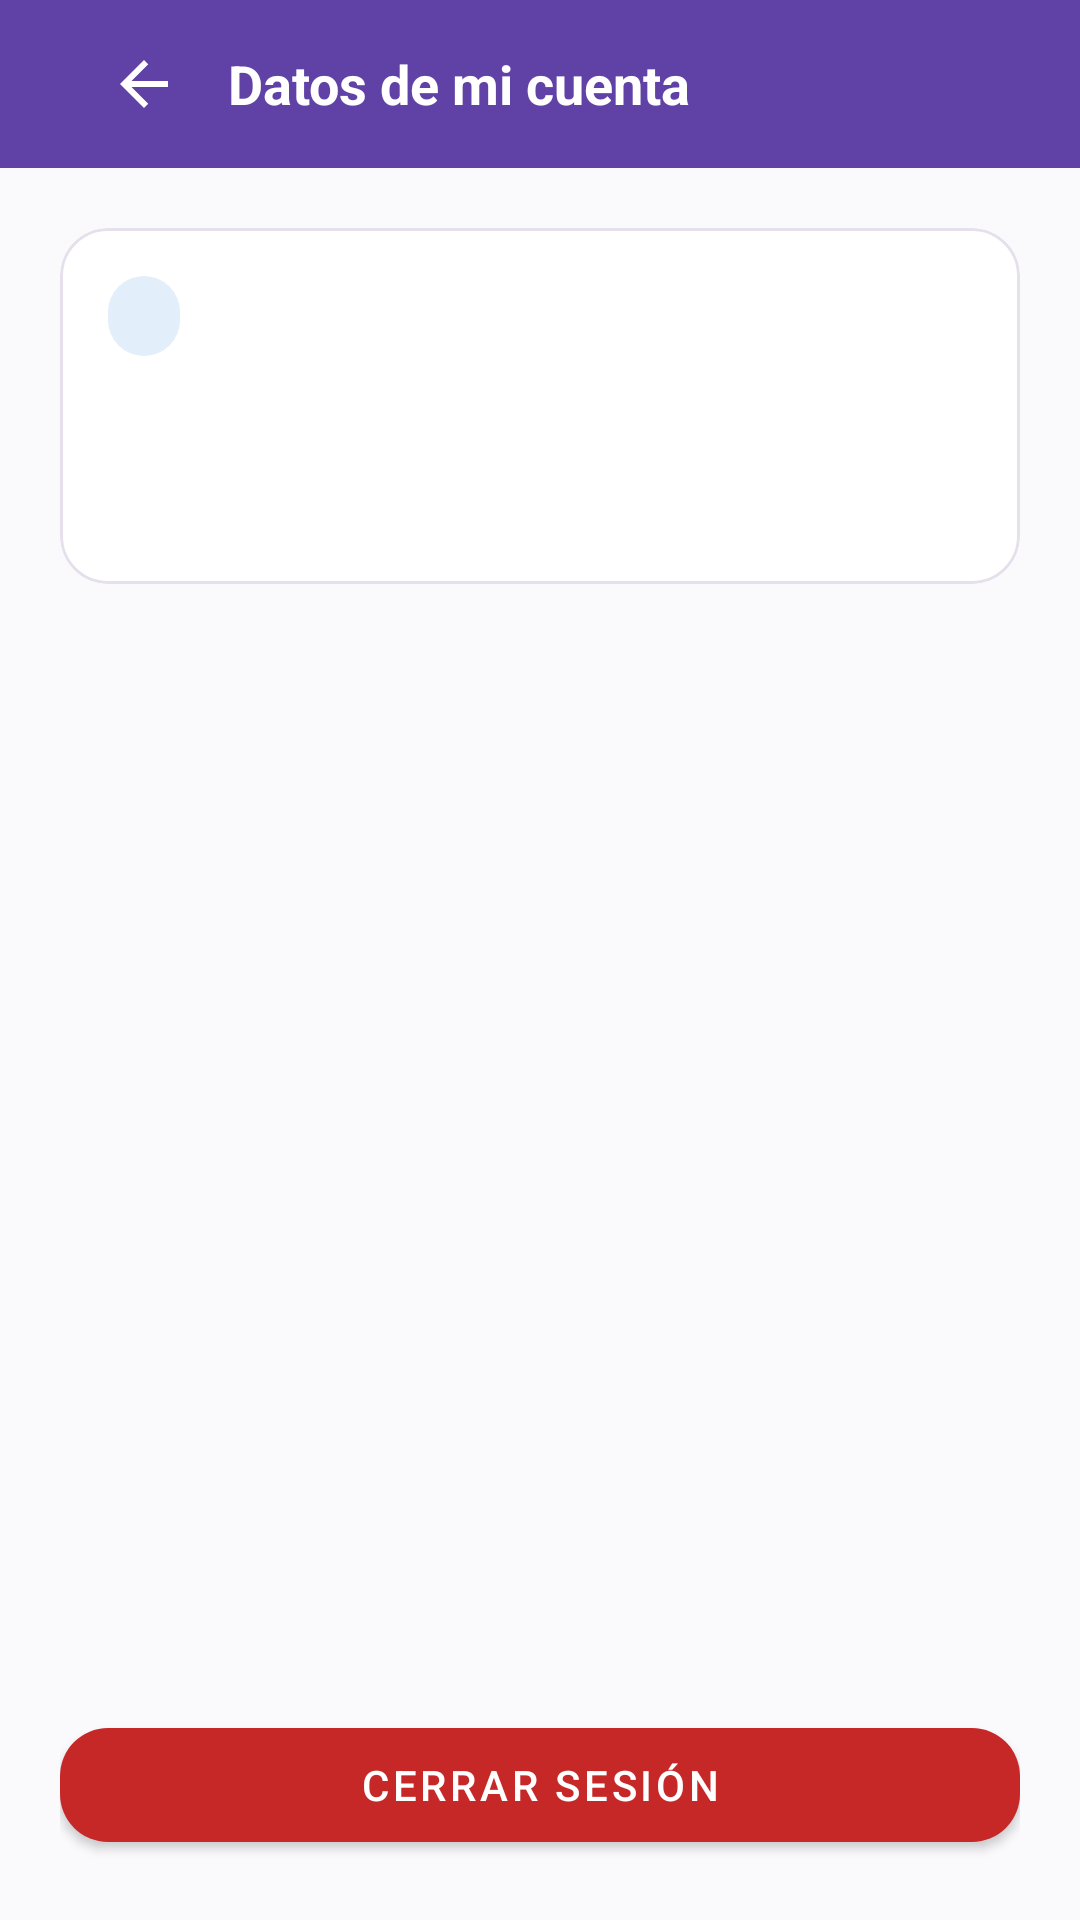

Named icons in this screenshot (1080 × 1920) and their centers, (x=x, y=y):
Volver: (x=144, y=84)
